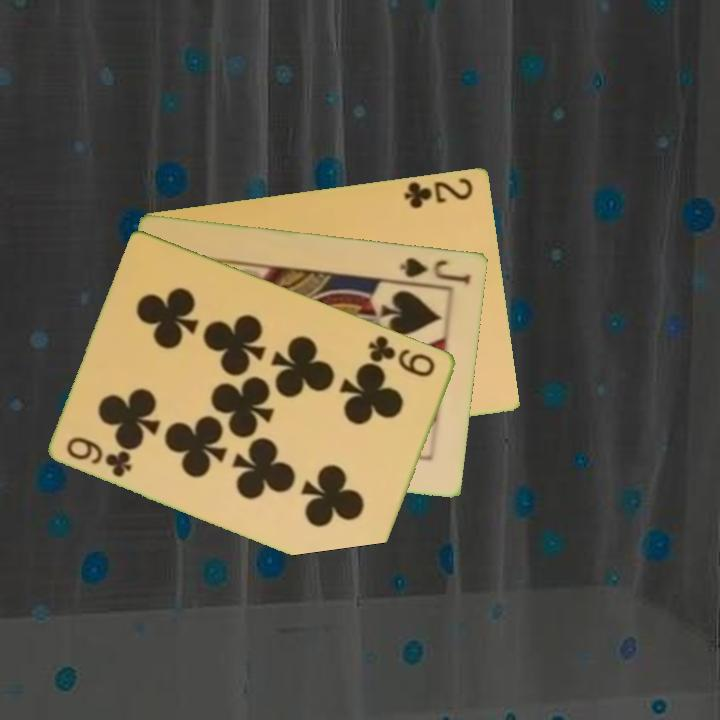2c: (400, 173, 476, 211)
9c: (365, 331, 439, 380), (63, 433, 135, 481)
Js: (397, 254, 474, 288)
